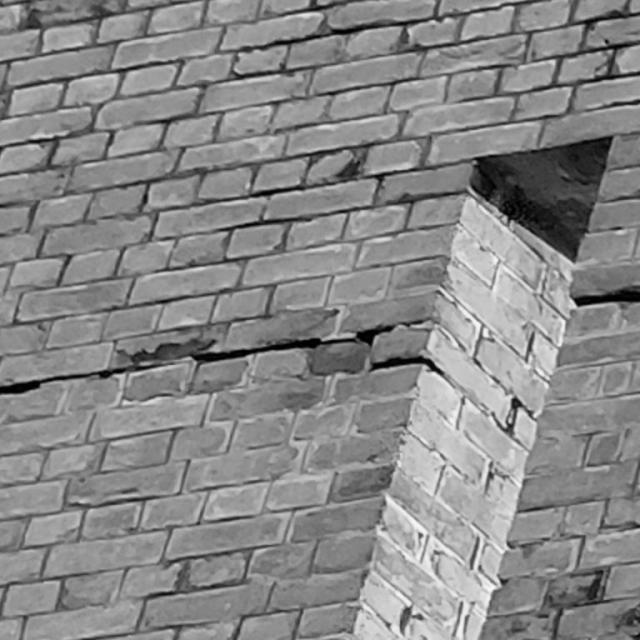crack: (1, 317, 446, 395), (572, 286, 639, 306)
